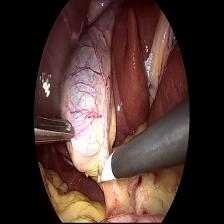Grasper: (34, 113, 78, 146)
Hook: (94, 150, 119, 188)
